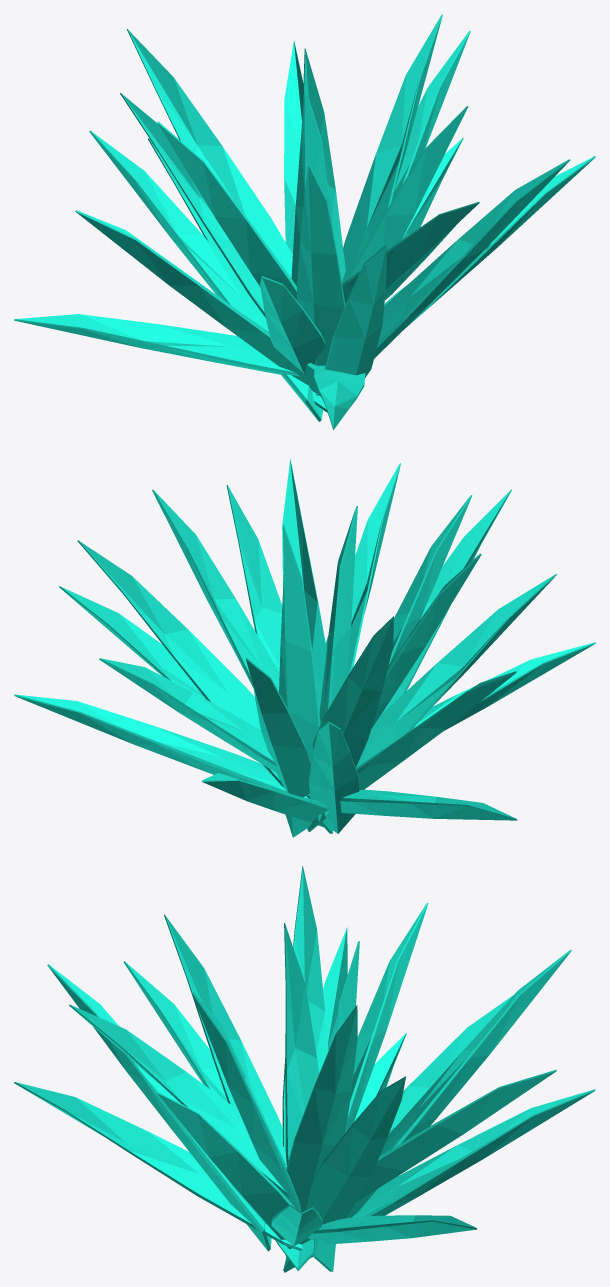
The model's file is Agave_LOD0.fbx.
3 views of the same model, one above another, from view 1: azimuth 30°, elevation 25°; view 2: azimuth 150°, elevation 25°; view 3: azimuth 270°, elevation 25° (orthographic). The views are drawn at different scales.
Parts seen in each view (by area): view 1: Agave_LOD0; view 2: Agave_LOD0; view 3: Agave_LOD0.
Part boxes in pixels (x1,y1,x2,y2): Agave_LOD0: (14,14,595,429); Agave_LOD0: (14,459,595,837); Agave_LOD0: (14,866,595,1272).
Size of the model in its own units: 183 by 117 by 188.
